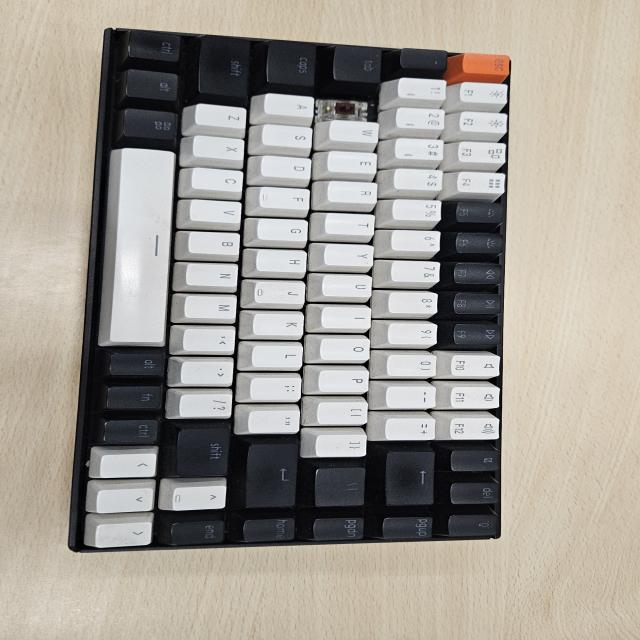C: (325, 95, 367, 122)
